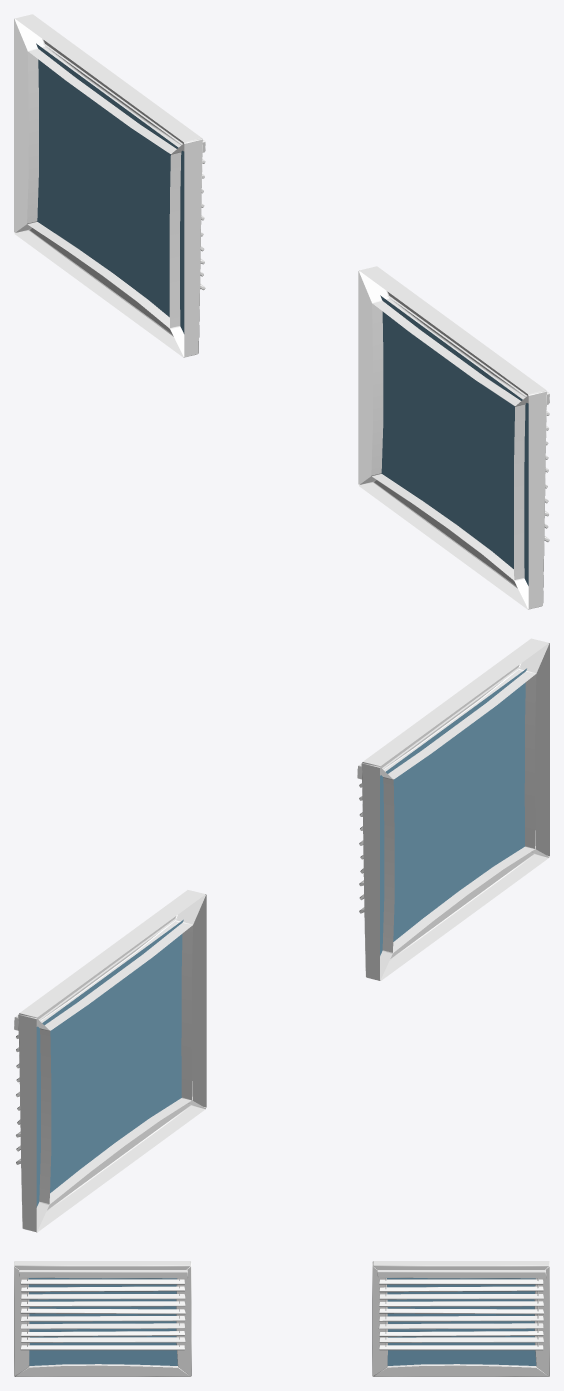
The model's file is Windows.fbx.
3 views of the same model, one above another, from view 1: azimuth 30°, elevation 25°; view 2: azimuth 150°, elevation 25°; view 3: azimuth 270°, elevation 25° (orthographic). The views are drawn at different scales.
Visible parts, largest first — view 1: Windows; view 2: Windows; view 3: Windows.
Boxes of the visible parts, box(x1,y1,x2,y2) form: Windows: box(14, 14, 549, 609); Windows: box(14, 638, 549, 1232); Windows: box(14, 1261, 549, 1376).
Size of the model in its own units: 0.1817 by 1.36 by 5.88.
